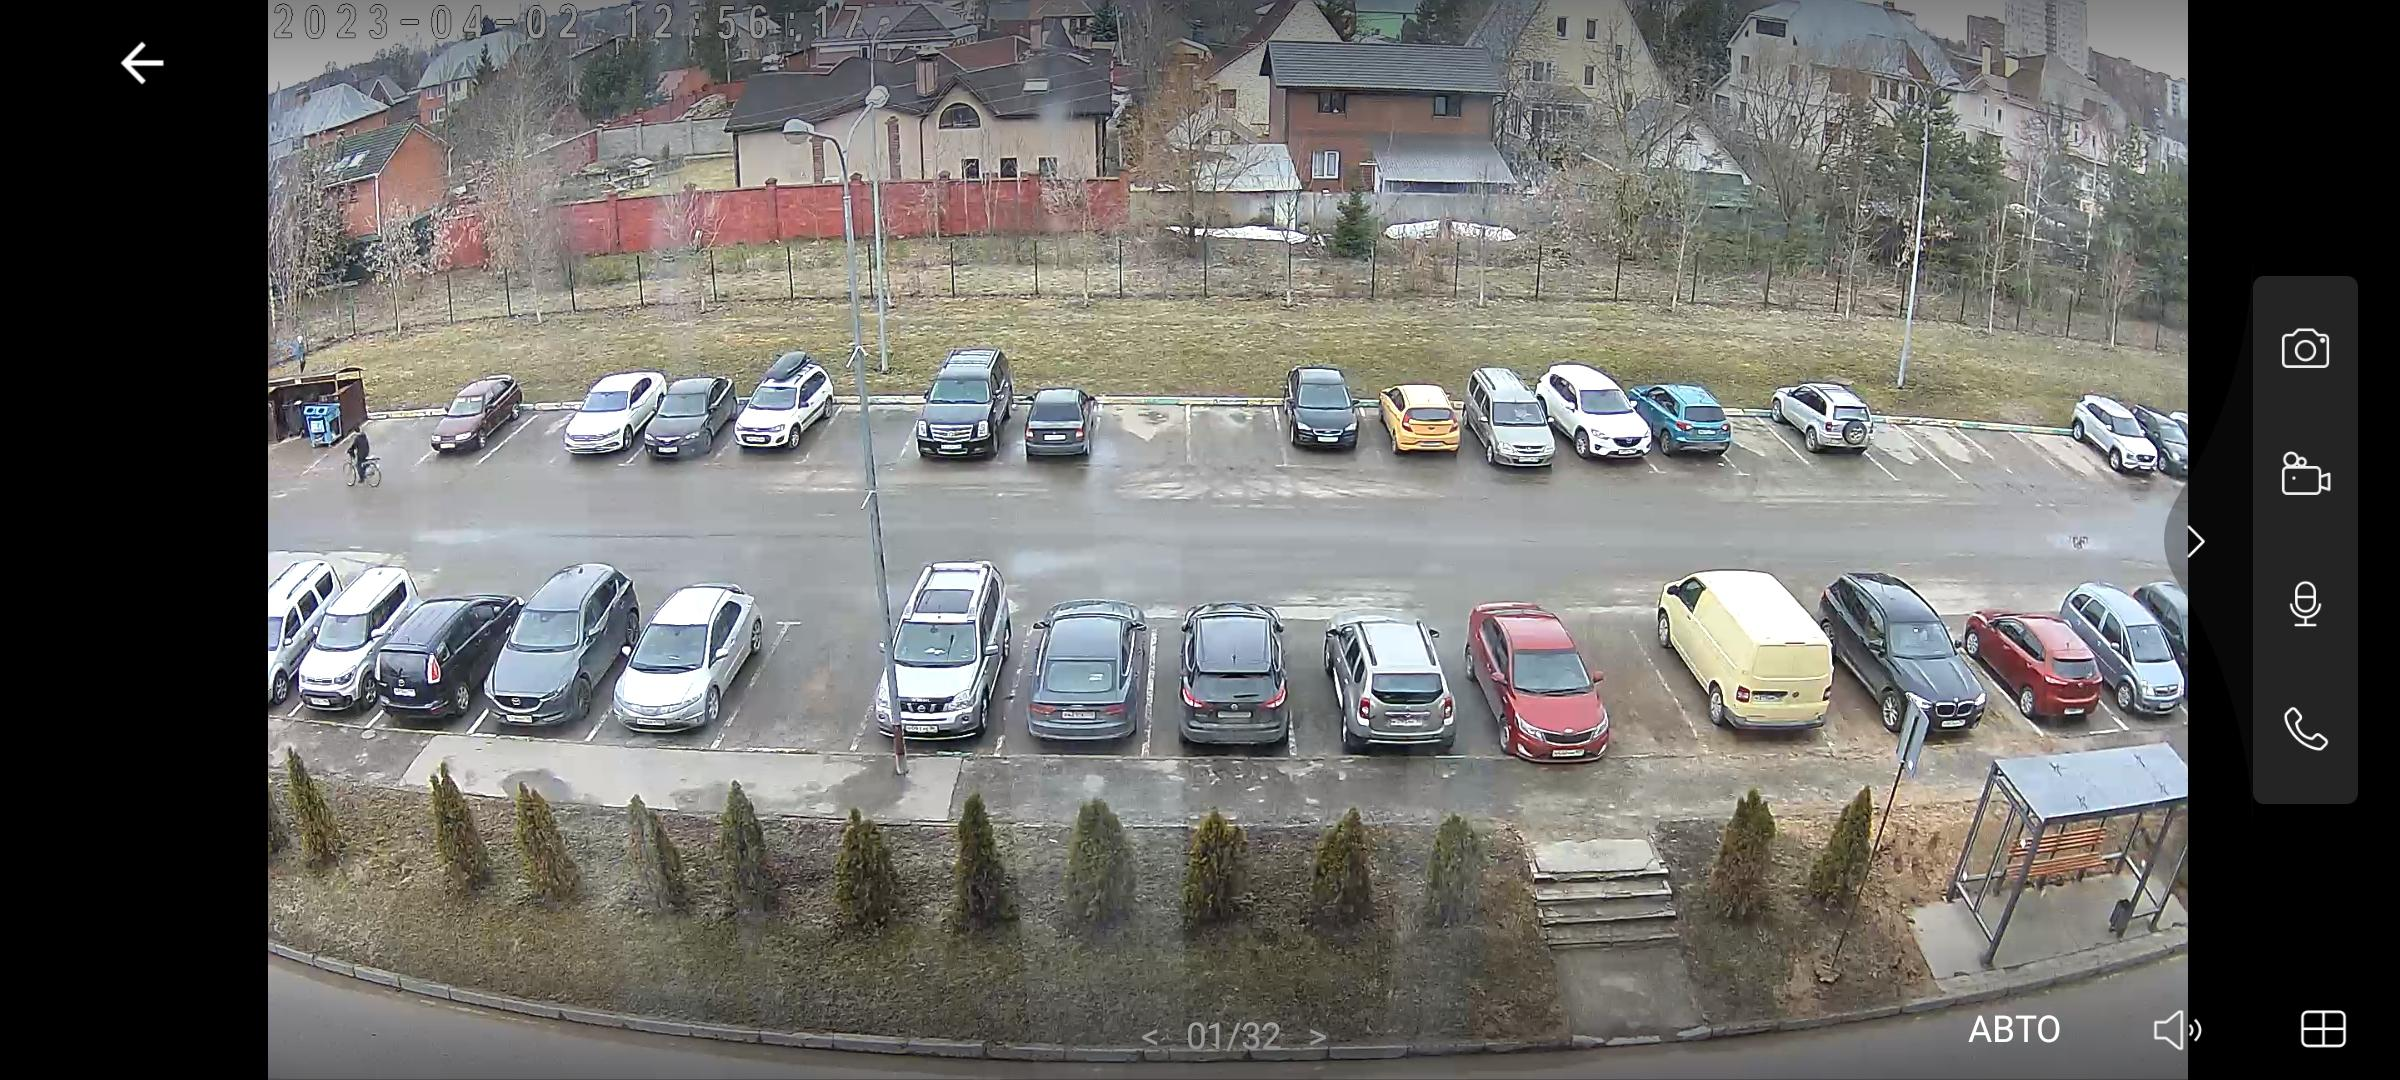empty: (1653, 575, 1849, 736), (586, 583, 774, 745), (857, 568, 1021, 748), (484, 560, 647, 734), (1824, 574, 1993, 739), (1007, 595, 1171, 759), (380, 554, 517, 742), (266, 546, 419, 711), (1474, 604, 1615, 768), (1157, 607, 1307, 760), (1329, 613, 1480, 753), (1982, 612, 2120, 719), (1477, 369, 1610, 479), (577, 369, 716, 470), (905, 341, 1019, 464), (1526, 370, 1648, 473), (721, 356, 845, 456), (2094, 594, 2192, 716), (401, 381, 533, 460), (999, 382, 1119, 468), (1272, 373, 1382, 460), (649, 356, 730, 473), (1632, 375, 1742, 457), (2053, 405, 2173, 480), (1772, 384, 1881, 460), (1376, 381, 1469, 462)
occupied: (748, 610, 888, 757), (1587, 618, 1684, 733), (1194, 370, 1273, 490), (1093, 385, 1186, 483), (1713, 392, 1803, 480), (1873, 398, 1933, 496), (1979, 410, 2045, 483), (1926, 412, 1984, 486), (2042, 421, 2102, 483), (831, 413, 898, 464), (517, 416, 583, 464), (375, 408, 429, 467)
